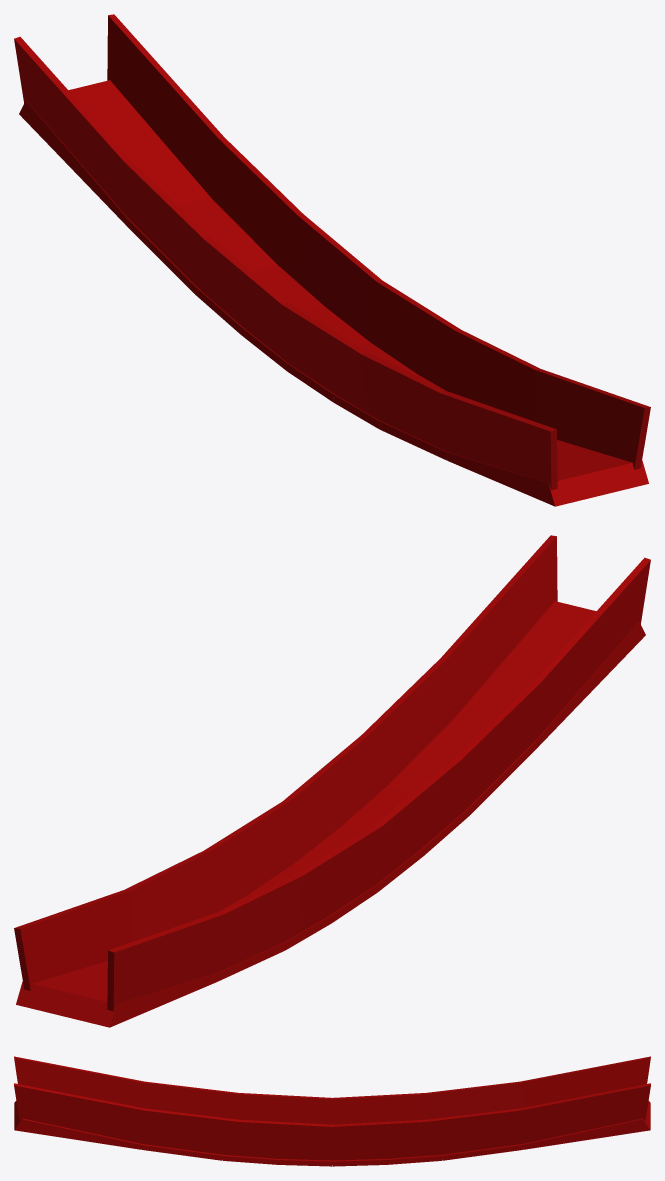
Rendered from SM_Bld_RopeBridge_01_Collision.glb.
The picture shows the model from 3 angles, top to bottom: view 1: azimuth 30°, elevation 25°; view 2: azimuth 150°, elevation 25°; view 3: azimuth 270°, elevation 25°; orthographic projection. The views are drawn at different scales.
Visible parts, largest first — view 1: SM_Bld_RopeBridge_01_Collision; view 2: SM_Bld_RopeBridge_01_Collision; view 3: SM_Bld_RopeBridge_01_Collision.
Part boxes in pixels (x1,y1,x2,y2): SM_Bld_RopeBridge_01_Collision: [14, 14, 650, 506]; SM_Bld_RopeBridge_01_Collision: [14, 535, 650, 1027]; SM_Bld_RopeBridge_01_Collision: [14, 1056, 650, 1166].
Size of the model in its own units: 1.66 by 2.19 by 15.42.
